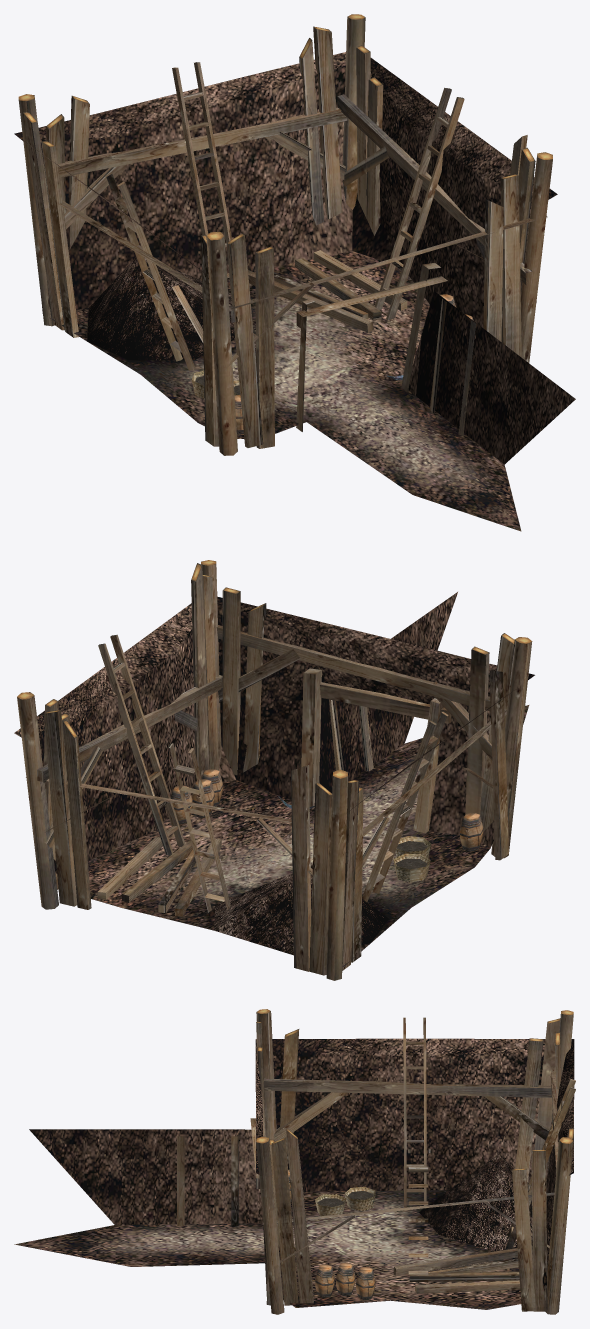
The model's file is building_tunneler.glb.
The picture shows the model from 3 angles, top to bottom: view 1: azimuth 30°, elevation 25°; view 2: azimuth 150°, elevation 25°; view 3: azimuth 270°, elevation 25°; orthographic projection. The views are drawn at different scales.
Parts seen in each view (by area): view 1: building_tunneler; view 2: building_tunneler; view 3: building_tunneler.
Boxes of the visible parts, left/top/right/bottom form: building_tunneler: left=14, top=14, right=575, bottom=531; building_tunneler: left=14, top=560, right=534, bottom=980; building_tunneler: left=14, top=1009, right=575, bottom=1314.
Size of the model in its own units: 8.29 by 5.38 by 14.47.
Materials: 7 (7 with a texture image).
